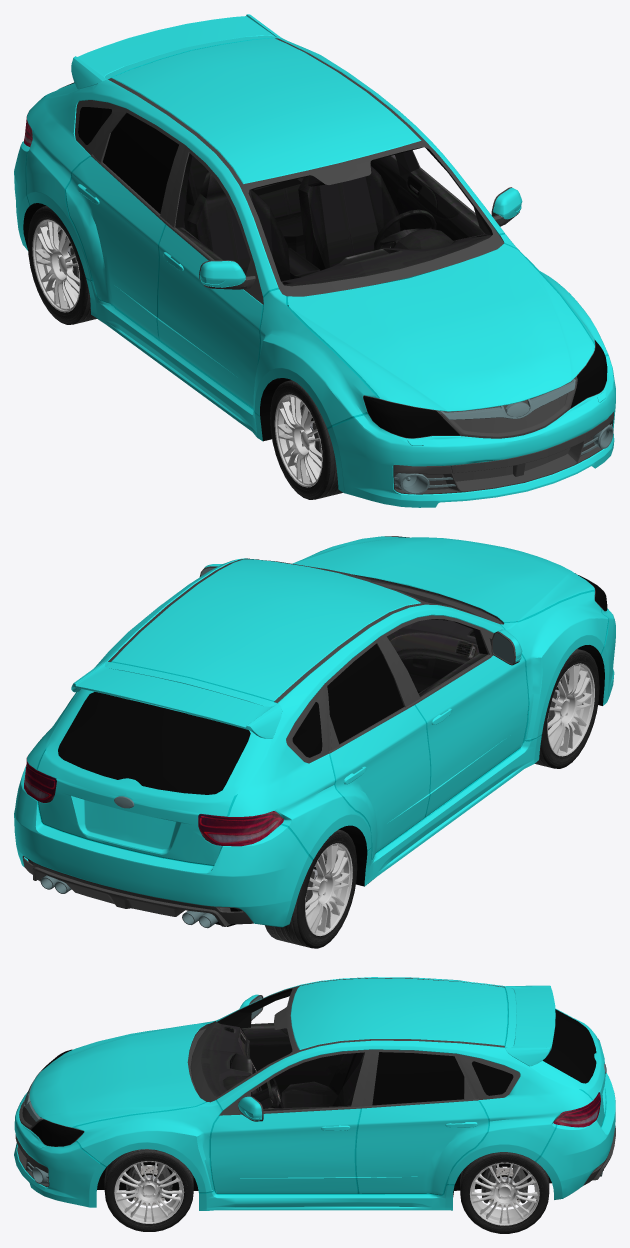
File: 轎車_1500kg_60cm重心高 1.fbx
The picture shows the model from 3 angles, top to bottom: view 1: azimuth 30°, elevation 25°; view 2: azimuth 150°, elevation 25°; view 3: azimuth 270°, elevation 25°; orthographic projection. The views are drawn at different scales.
Parts seen in each view (by area): view 1: BodyMain, Interior, WindowFrame, Bumpers1, WindowsGlass, lightGlass, Bumpers2, Tire_3, Rim_2, Rim_3, Metal, Seams (+5 smaller); view 2: BodyMain, WindowsGlass, WindowFrame, Interior, Bumpers1, Tire_2, Rim_3, Rim_2, Seams, RearLightRight, Tire_3, Chassis (+4 smaller); view 3: BodyMain, Interior, WindowsGlass, WindowFrame, Tire, Tire_1, Seams, Rim_1, Rim, Ring_1, Ring, lightGlass (+4 smaller).
Part boxes in pixels (<box>): BodyMain: <box>14,14,615,507</box>; Interior: <box>108,147,492,286</box>; WindowFrame: <box>75,38,606,438</box>; Bumpers1: <box>393,377,613,494</box>; WindowsGlass: <box>64,82,178,213</box>; lightGlass: <box>363,340,607,438</box>; Bumpers2: <box>394,393,594,489</box>; Tire_3: <box>270,380,342,499</box>; Rim_2: <box>35,221,79,309</box>; Rim_3: <box>277,396,321,484</box>; Metal: <box>394,378,613,494</box>; Seams: <box>25,37,608,429</box>; BodyMain: <box>14,536,615,927</box>; WindowsGlass: <box>58,643,403,794</box>; WindowFrame: <box>108,558,606,763</box>; Interior: <box>50,558,487,839</box>; Bumpers1: <box>22,573,575,926</box>; Tire_2: <box>265,829,357,948</box>; Rim_3: <box>547,665,592,753</box>; Rim_2: <box>305,845,349,933</box>; Seams: <box>36,546,608,866</box>; RearLightRight: <box>198,811,283,846</box>; Tire_3: <box>535,649,599,768</box>; Chassis: <box>28,645,604,926</box>; BodyMain: <box>14,977,615,1210</box>; Interior: <box>201,988,364,1110</box>; WindowsGlass: <box>372,1009,596,1105</box>; WindowFrame: <box>31,978,520,1146</box>; Tire: <box>104,1149,193,1231</box>; Tire_1: <box>460,1152,549,1233</box>; Seams: <box>72,987,606,1195</box>; Rim_1: <box>471,1164,538,1223</box>; Rim: <box>115,1162,182,1221</box>; Ring_1: <box>469,1162,539,1225</box>; Ring: <box>114,1161,184,1223</box>; lightGlass: <box>31,1049,83,1146</box>.
Bounding box in the file's own units: 197 × 146 × 441.
10 materials, 4 textured.
